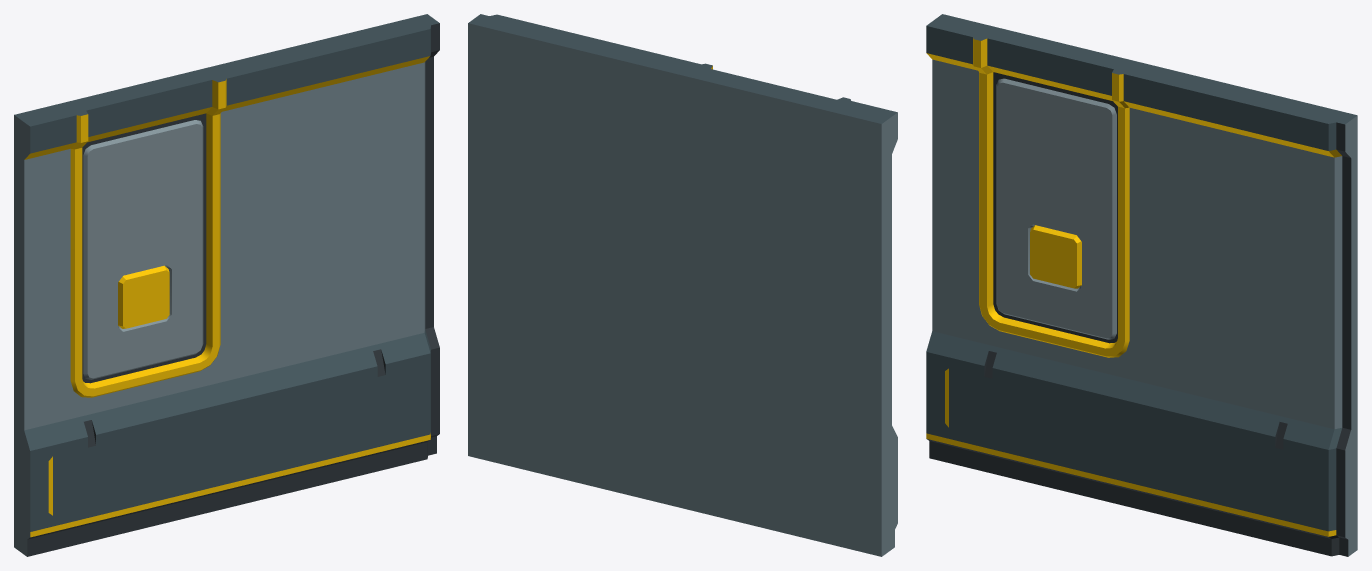
The model's file is Wall_type_C_018.glb.
The picture shows the model from 3 angles, left to right: view 1: azimuth 30°, elevation 25°; view 2: azimuth 150°, elevation 25°; view 3: azimuth 330°, elevation 25°; orthographic projection.
Parts seen in each view (by area): view 1: Wall_type_C_018; view 2: Wall_type_C_018; view 3: Wall_type_C_018.
Boxes of the visible parts, x1,y1,x2,y2 form: Wall_type_C_018: (14, 14, 439, 556); Wall_type_C_018: (468, 14, 897, 556); Wall_type_C_018: (926, 14, 1357, 556).
Size of the model in its own units: 4 by 4 by 0.2998.
Materials: 1 (1 with a texture image).
